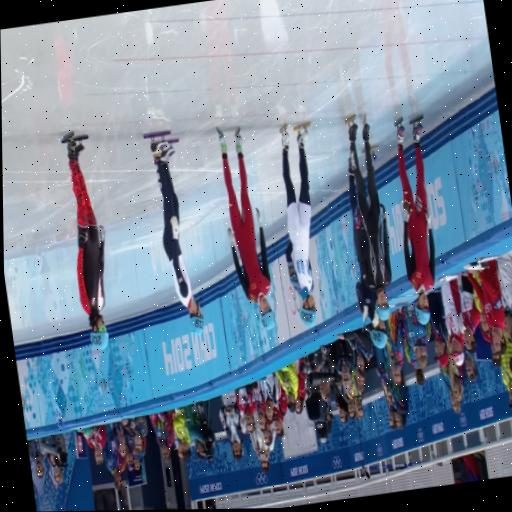Skater: (144, 131, 203, 334), (217, 127, 274, 329), (61, 131, 107, 348), (345, 115, 390, 319), (395, 115, 434, 323), (279, 121, 316, 327), (352, 220, 386, 347)
